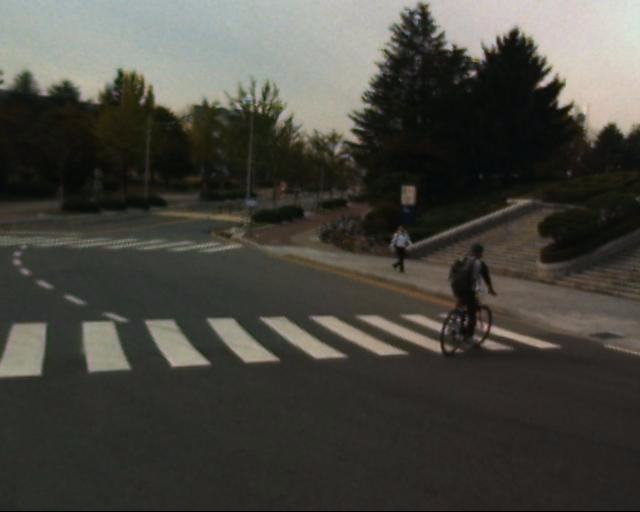person: (443, 247, 495, 348), (390, 220, 410, 280)
